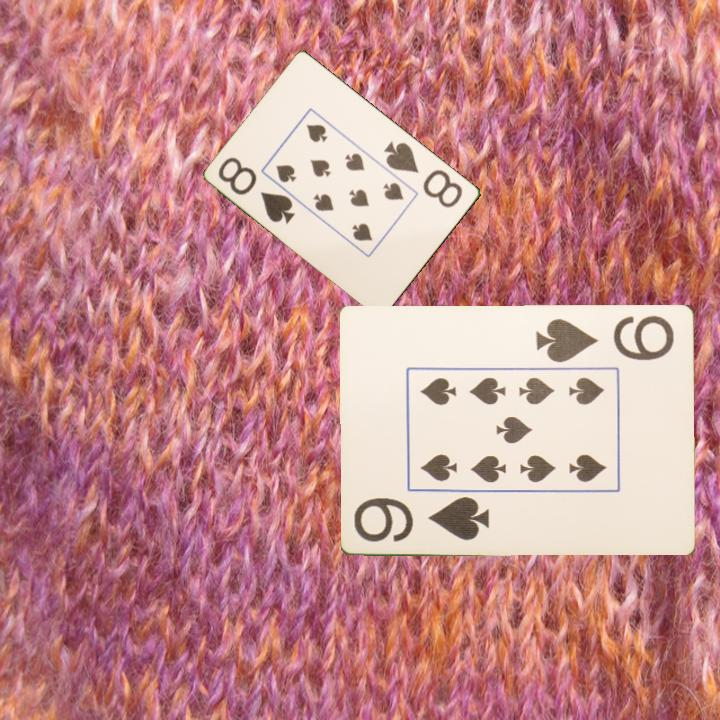8s: (381, 137, 466, 211), (215, 153, 298, 227)
9s: (533, 311, 678, 366), (351, 493, 493, 544)
